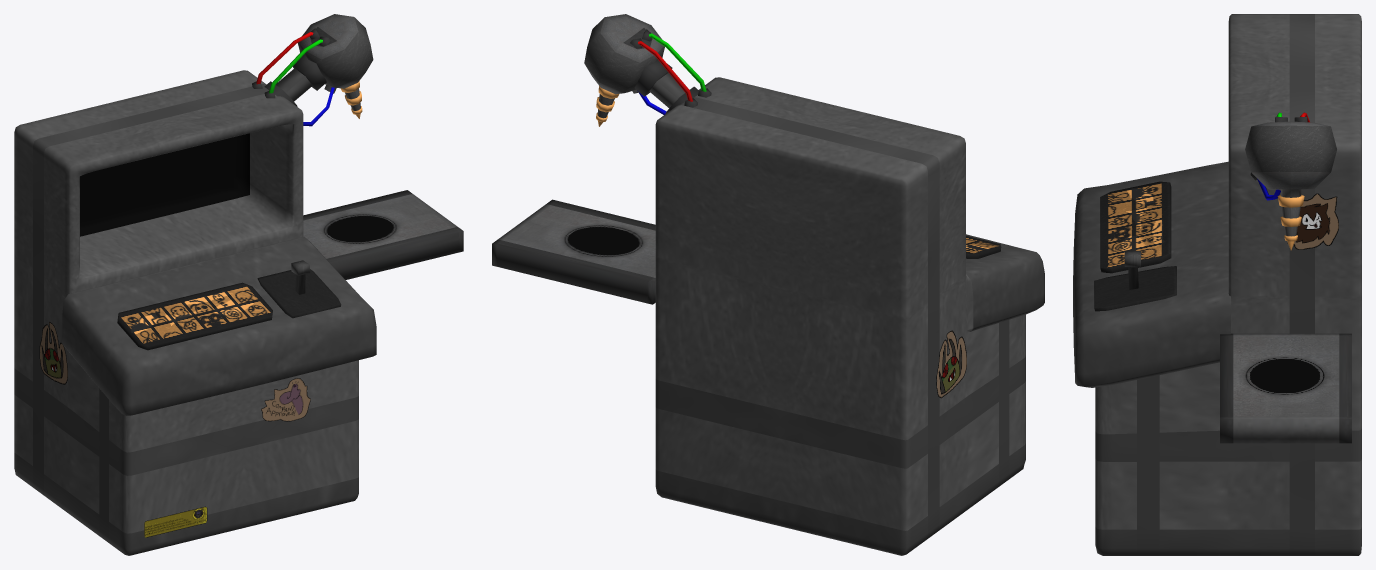
The model's file is LETHALMON_PC_1.fbx.
3 views of the same model, side by side, from view 1: azimuth 30°, elevation 25°; view 2: azimuth 150°, elevation 25°; view 3: azimuth 270°, elevation 25° (orthographic). The views are drawn at different scales.
Parts seen in each view (by area): view 1: Pc_Base, Pc_Fold, Pc_Laser, Pc_Sticker_Company, Pc_Sticker_Bug; view 2: Pc_Base, Pc_Fold, Pc_Laser, Pc_Sticker_Bug; view 3: Pc_Base, Pc_Fold, Pc_Laser, Pc_Sticker_Green.
Part boxes in pixels (box(x1,y1,x2,y2)): Pc_Base: box(14, 70, 376, 555); Pc_Fold: box(303, 190, 463, 279); Pc_Laser: box(252, 14, 373, 126); Pc_Sticker_Company: box(261, 378, 310, 421); Pc_Sticker_Bug: box(39, 322, 67, 384); Pc_Base: box(655, 77, 1044, 555); Pc_Fold: box(492, 199, 655, 304); Pc_Laser: box(584, 14, 711, 126); Pc_Sticker_Bug: box(936, 330, 966, 398); Pc_Base: box(1073, 14, 1361, 555); Pc_Fold: box(1220, 333, 1351, 443); Pc_Laser: box(1245, 112, 1336, 250); Pc_Sticker_Green: box(1287, 193, 1338, 249).
Bounding box in the file's own units: 407 × 395 × 217.
Materials: 1 (1 with a texture image).
